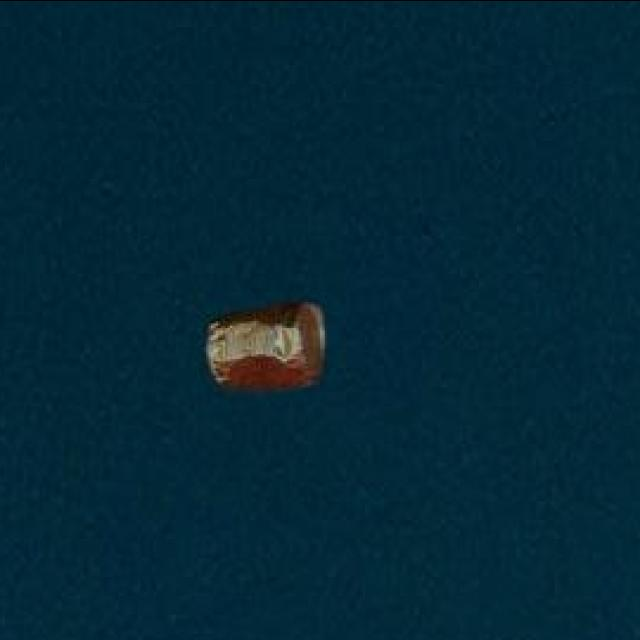logam: (210, 305, 326, 388)
